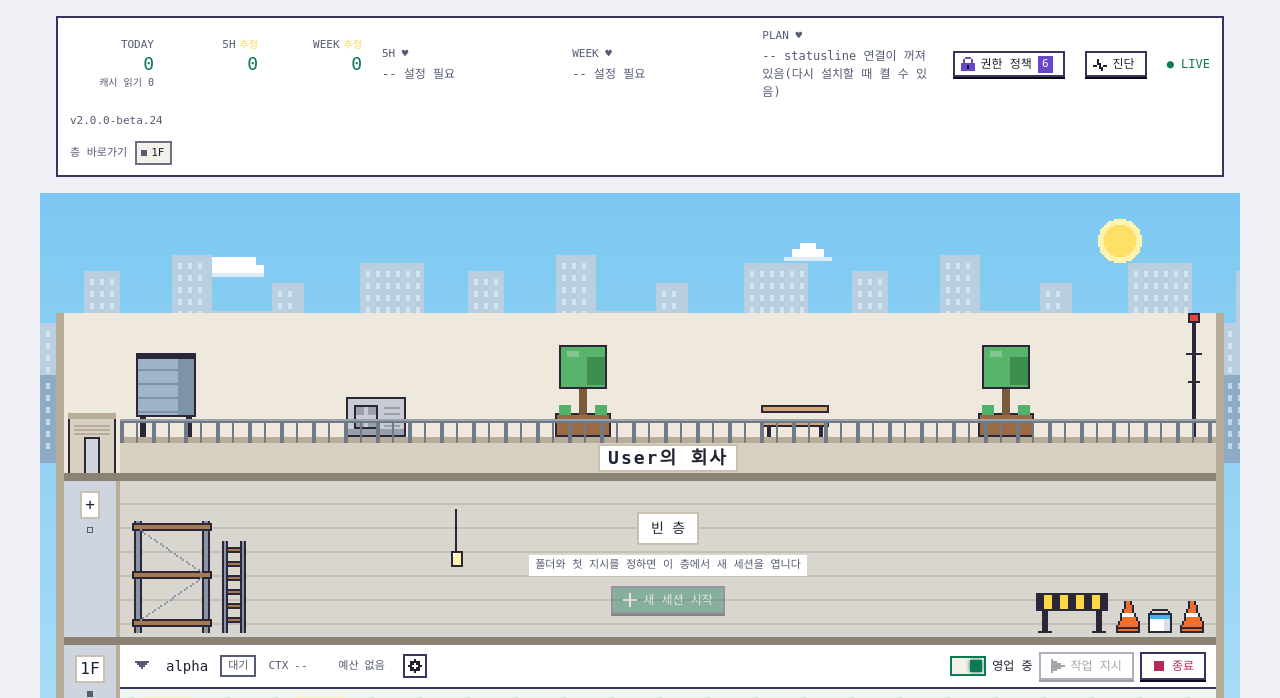
Test: 목록 서랍(§4) › 저장된 모든 대상이 보이고(화면에 없는 이름 포함) 행 순서는 lead → agent → sub → others
Click the button with aria-label "권한 정책 열기" at point(1008, 64), box [952,51,1064,77]
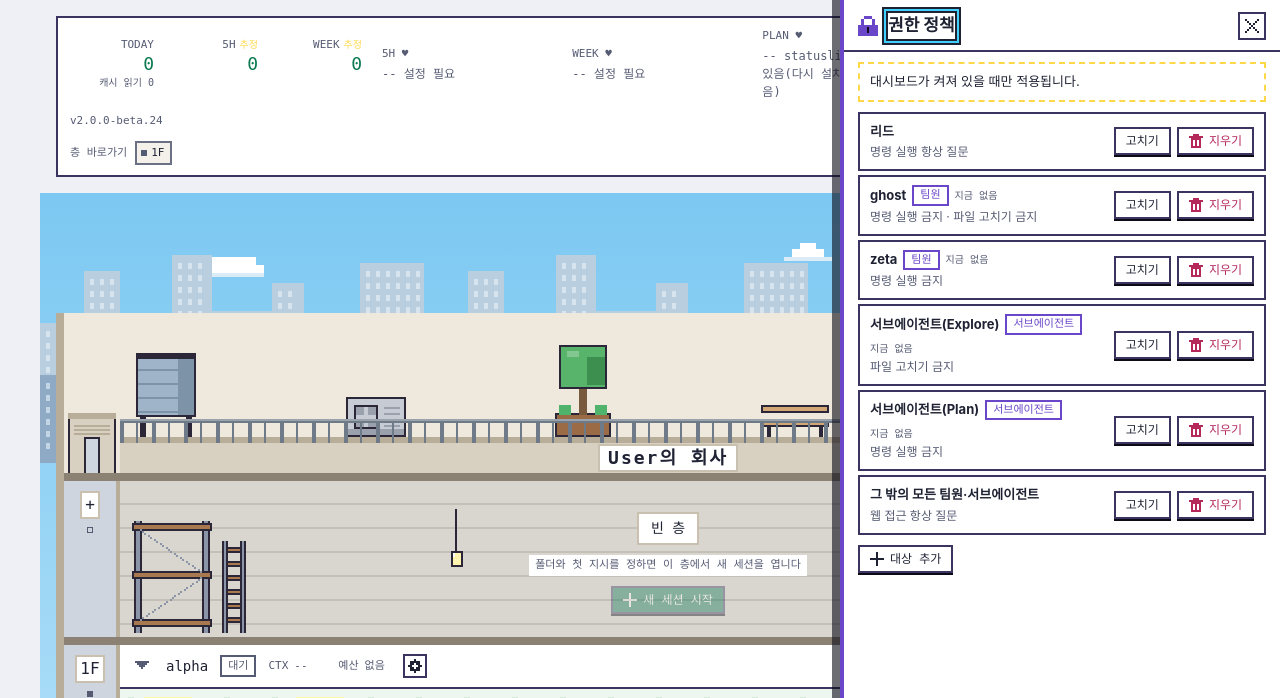
Expected: the list item "ghost 팀원 지금 없음 명령 실행 금지 · 파일 고치기 금지 고치기 지우기" is shown, [858,175,1266,236]
Expected: the button with aria-label "ghost 정책 고치기" is shown, [1114,191,1171,219]
Expected: the button with aria-label "ghost 정책 지우기" is shown, [1177,191,1254,219]
